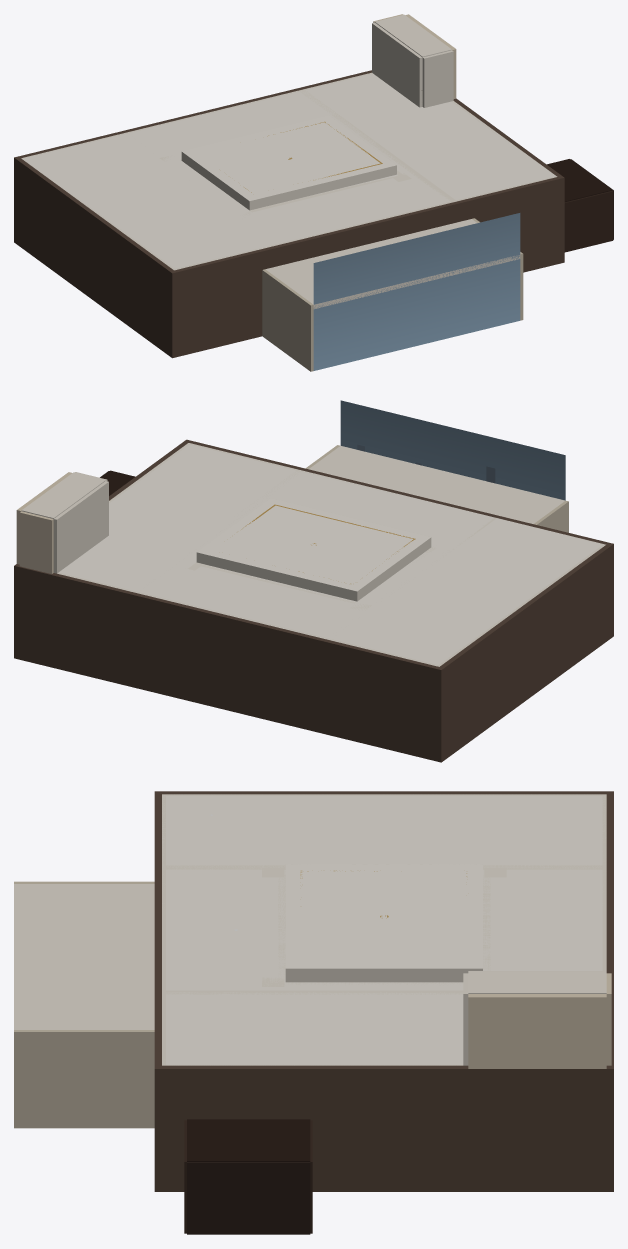
Rendered from int_hotel_lobby.glb.
3 renders of one model, top to bottom at view 1: azimuth 30°, elevation 25°; view 2: azimuth 150°, elevation 25°; view 3: azimuth 270°, elevation 25°, orthographic. The views are drawn at different scales.
Parts seen in each view (by area): view 1: int_hotel_lobby; view 2: int_hotel_lobby; view 3: int_hotel_lobby.
Boxes of the visible parts, left/top/right/bottom form: int_hotel_lobby: left=14, top=14, right=613, bottom=371; int_hotel_lobby: left=14, top=400, right=613, bottom=762; int_hotel_lobby: left=14, top=791, right=613, bottom=1234.
Bounding box in the file's own units: 30.7 × 8.93 × 24.3.
